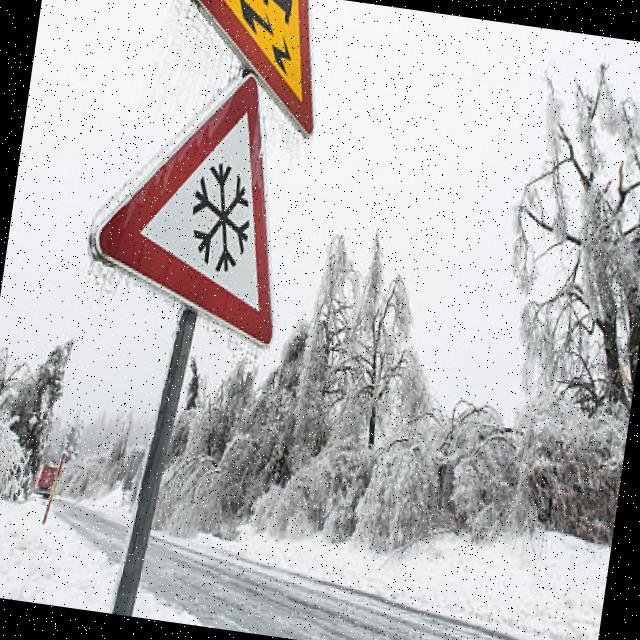road_slippery: (155, 0, 332, 115)
